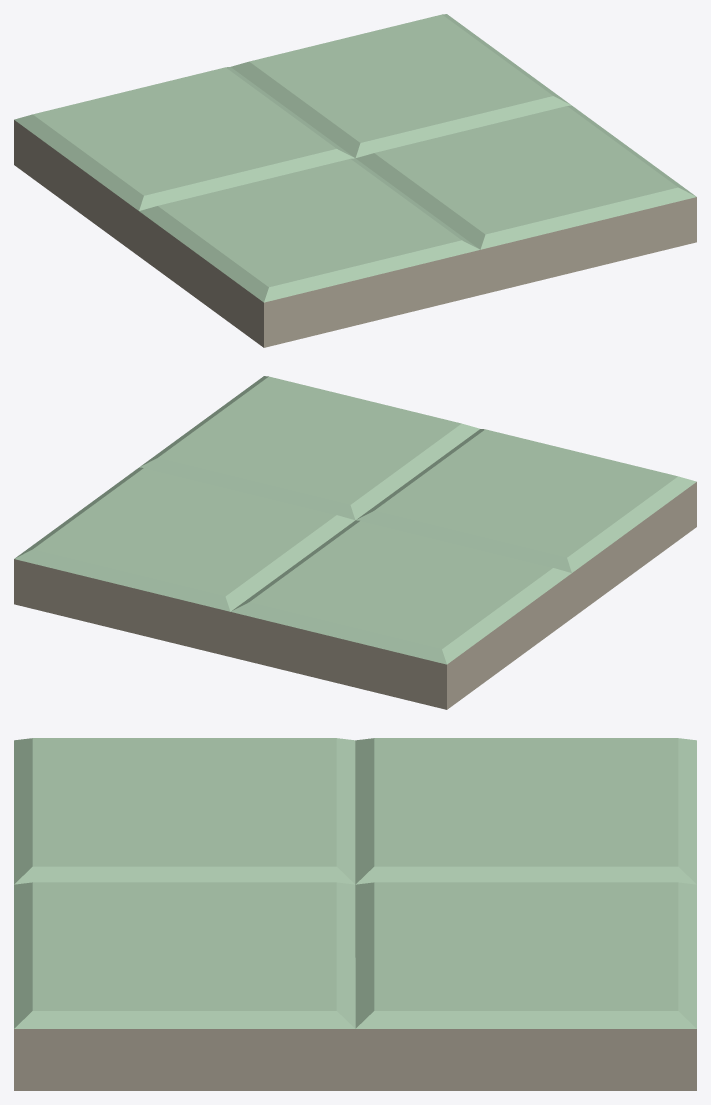
File: Mesh_GroundCeramic_C1.fbx
3 views of the same model, one above another, from view 1: azimuth 30°, elevation 25°; view 2: azimuth 150°, elevation 25°; view 3: azimuth 270°, elevation 25° (orthographic). The views are drawn at different scales.
Parts seen in each view (by area): view 1: Mesh_GroundCeramic_C1; view 2: Mesh_GroundCeramic_C1; view 3: Mesh_GroundCeramic_C1.
Part boxes in pixels (x1,y1,x2,y2): Mesh_GroundCeramic_C1: (14, 14, 696, 347); Mesh_GroundCeramic_C1: (14, 376, 696, 709); Mesh_GroundCeramic_C1: (14, 738, 696, 1090).
Bounding box in the file's own units: 1 × 0.1164 × 1.
